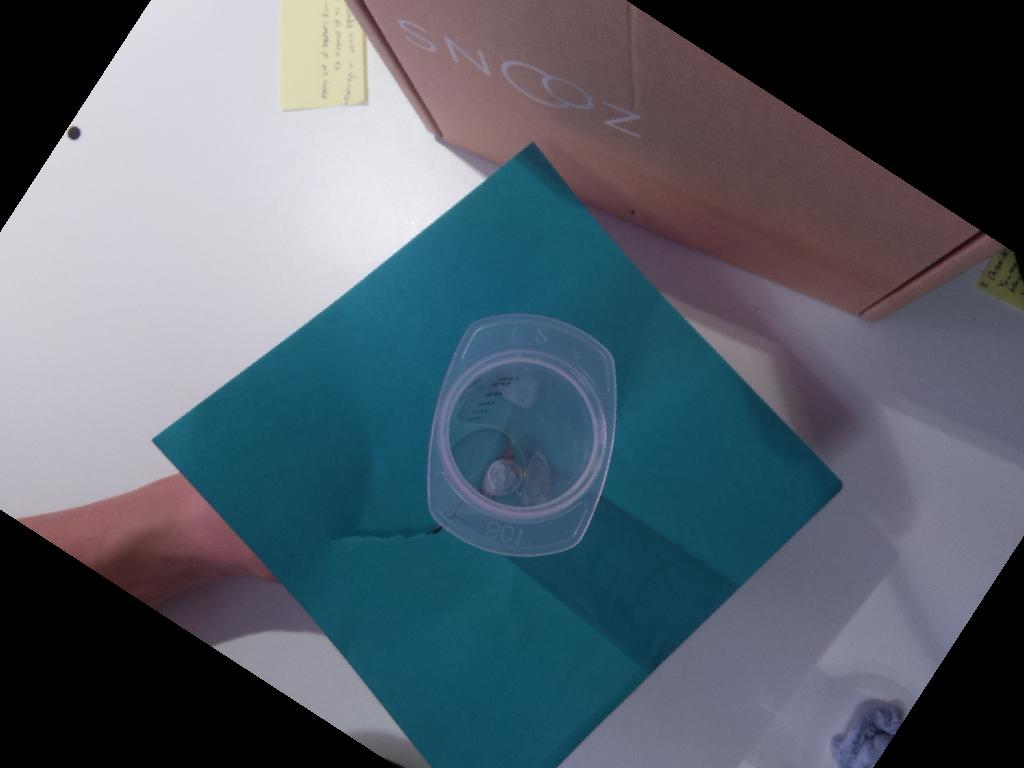clean: (428, 312, 618, 555)
